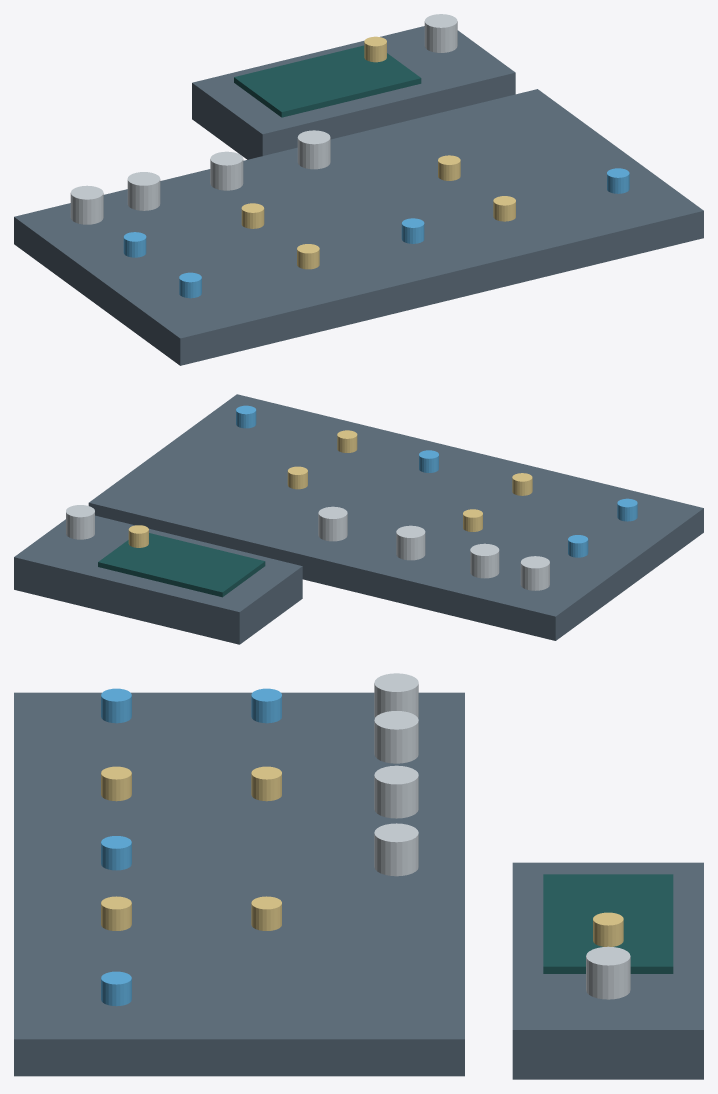
File: dsb-sc-trainer-v1.gltf
3 renders of one model, top to bottom at view 1: azimuth 30°, elevation 25°; view 2: azimuth 150°, elevation 25°; view 3: azimuth 270°, elevation 25°, orthographic. The views are drawn at different scales.
Parts seen in each view (by area): view 1: trainer.body, scope.body, scope.display, modulator.null, source.carrier_frequency, source.message_frequency, trainer.power, scope.trigger, source.carrier, modulator.carrier, modulator.output, detector.input (+5 smaller); view 2: trainer.body, scope.body, scope.display, modulator.null, source.carrier_frequency, trainer.power, source.message_frequency, scope.trigger, detector.reference, detector.output, modulator.message, detector.input (+5 smaller); view 3: trainer.body, scope.body, scope.display, modulator.null, source.carrier_frequency, scope.trigger, source.message_frequency, trainer.power, source.message, source.carrier, modulator.message, detector.output (+5 smaller).
Boxes of the visible parts, left/top/right/bottom form: trainer.body: left=14, top=89, right=703, bottom=365; scope.body: left=192, top=26, right=515, bottom=159; scope.display: left=234, top=45, right=421, bottom=117; modulator.null: left=297, top=130, right=330, bottom=169; source.carrier_frequency: left=210, top=151, right=243, bottom=190; source.message_frequency: left=127, top=172, right=160, bottom=210; trainer.power: left=70, top=185, right=103, bottom=224; scope.trigger: left=424, top=14, right=457, bottom=52; source.carrier: left=123, top=232, right=146, bottom=257; modulator.carrier: left=241, top=203, right=264, bottom=228; modulator.output: left=401, top=218, right=424, bottom=243; detector.input: left=493, top=196, right=515, bottom=221; trainer.body: left=88, top=394, right=703, bottom=640; scope.body: left=14, top=515, right=302, bottom=644; scope.display: left=98, top=533, right=265, bottom=597; modulator.null: left=318, top=506, right=347, bottom=541; source.carrier_frequency: left=396, top=525, right=425, bottom=560; trainer.power: left=520, top=556, right=549, bottom=590; source.message_frequency: left=470, top=543, right=499, bottom=578; scope.trigger: left=66, top=505, right=94, bottom=539; detector.reference: left=287, top=466, right=307, bottom=489; detector.output: left=236, top=405, right=256, bottom=428; modulator.message: left=512, top=473, right=532, bottom=495; detector.input: left=337, top=430, right=357, bottom=452; trainer.body: left=14, top=692, right=464, bottom=1076; scope.body: left=512, top=862, right=703, bottom=1079; scope.display: left=543, top=874, right=673, bottom=973; modulator.null: left=374, top=823, right=418, bottom=876; source.carrier_frequency: left=374, top=765, right=418, bottom=818; scope.trigger: left=586, top=946, right=630, bottom=999; source.message_frequency: left=374, top=711, right=418, bottom=763; trainer.power: left=374, top=673, right=418, bottom=717; source.message: left=101, top=688, right=131, bottom=723; source.carrier: left=251, top=688, right=281, bottom=723; modulator.message: left=101, top=766, right=131, bottom=801; detector.output: left=101, top=971, right=131, bottom=1006.
Size of the model in its own units: 1.2 by 0.1575 by 1.01.
